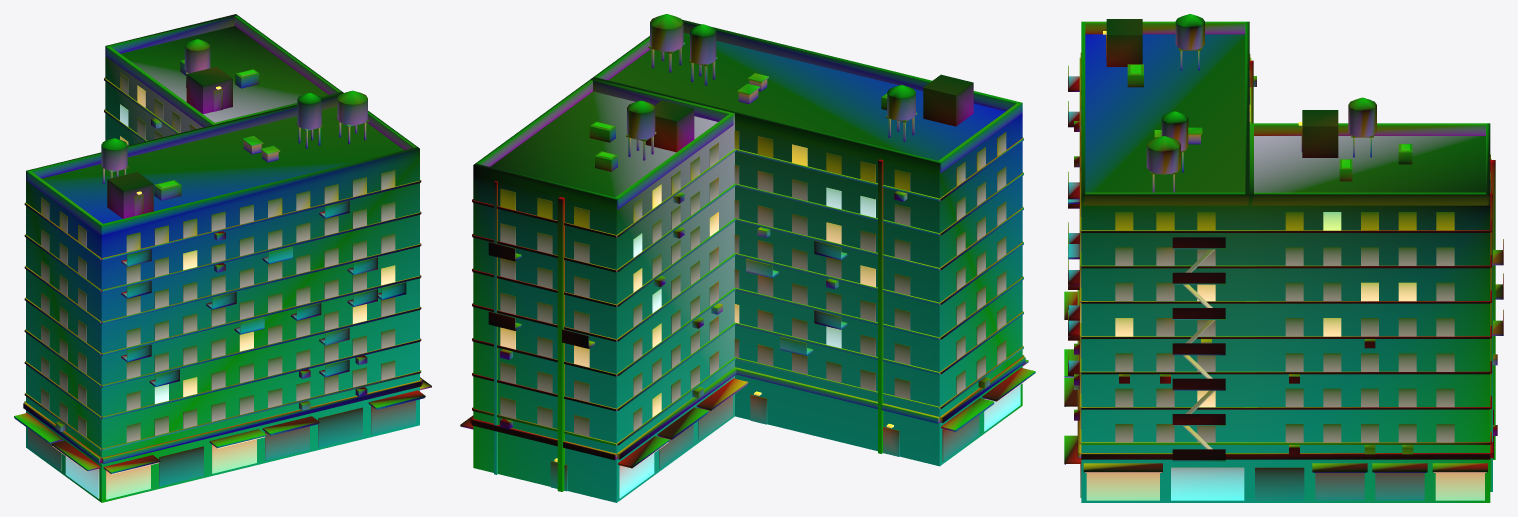
File: Block_Corner.fbx
3 renders of one model, left to right at view 1: azimuth 30°, elevation 25°; view 2: azimuth 150°, elevation 25°; view 3: azimuth 270°, elevation 25°, orthographic. The views are drawn at different scales.
Visible parts, largest first — view 1: Block_Corner_LOD0; view 2: Block_Corner_LOD0; view 3: Block_Corner_LOD0.
Boxes of the visible parts, left/top/right/bottom form: Block_Corner_LOD0: left=14, top=14, right=431, bottom=502; Block_Corner_LOD0: left=460, top=14, right=1035, bottom=502; Block_Corner_LOD0: left=1064, top=14, right=1503, bottom=502.
Size of what is drawn, in the model's own units: 37.1 by 32.45 by 36.5.
